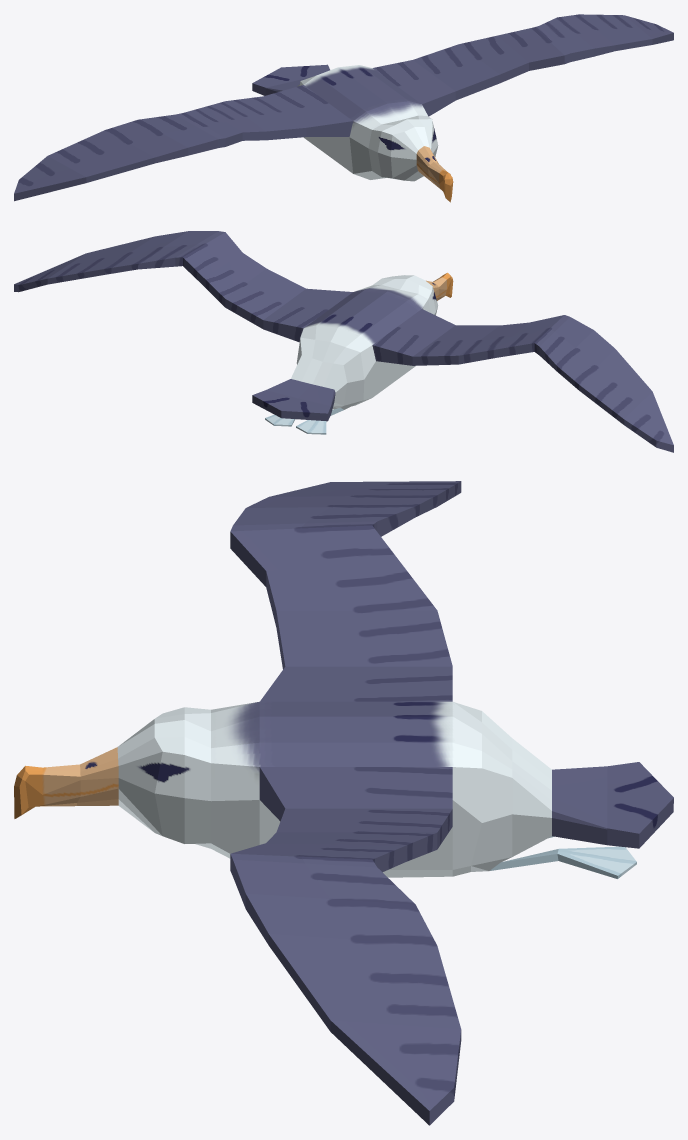
The model's file is Albatross.fbx.
3 renders of one model, top to bottom at view 1: azimuth 30°, elevation 25°; view 2: azimuth 150°, elevation 25°; view 3: azimuth 270°, elevation 25°, orthographic. The views are drawn at different scales.
Parts seen in each view (by area): view 1: albatross; view 2: albatross; view 3: albatross.
Boxes of the visible parts, x1=… form: albatross: x1=14, y1=14, x2=673, y2=202; albatross: x1=14, y1=231, x2=673, y2=452; albatross: x1=14, y1=481, x2=673, y2=1125.
Size of the model in its own units: 661 by 87.06 by 294.
